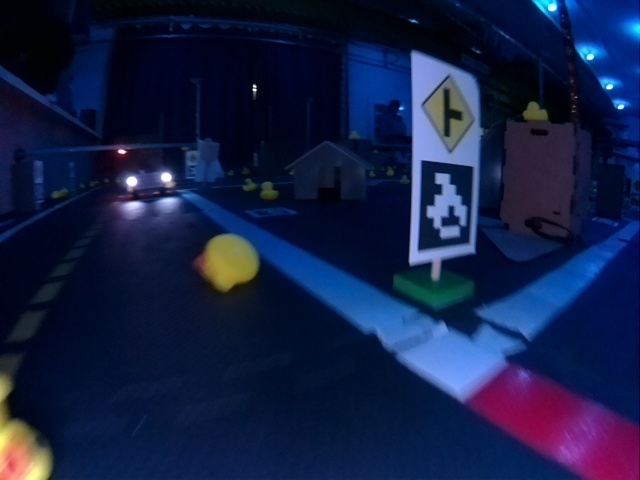Duckie: (194, 232, 259, 291), (522, 101, 549, 121), (260, 182, 278, 198), (243, 180, 256, 191), (400, 175, 410, 183)
Duckiebot: (123, 163, 173, 197)
Intersection sign: (421, 72, 475, 155)
QR code: (417, 162, 475, 252)
Traffic light: (115, 145, 128, 155)
